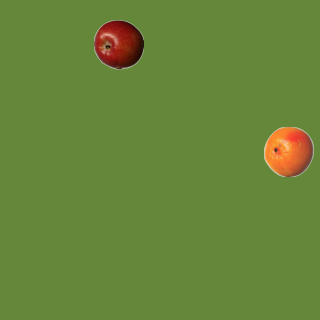Apple Braeburn: (93, 19, 143, 69)
Grapefruit Pink: (263, 126, 313, 176)
